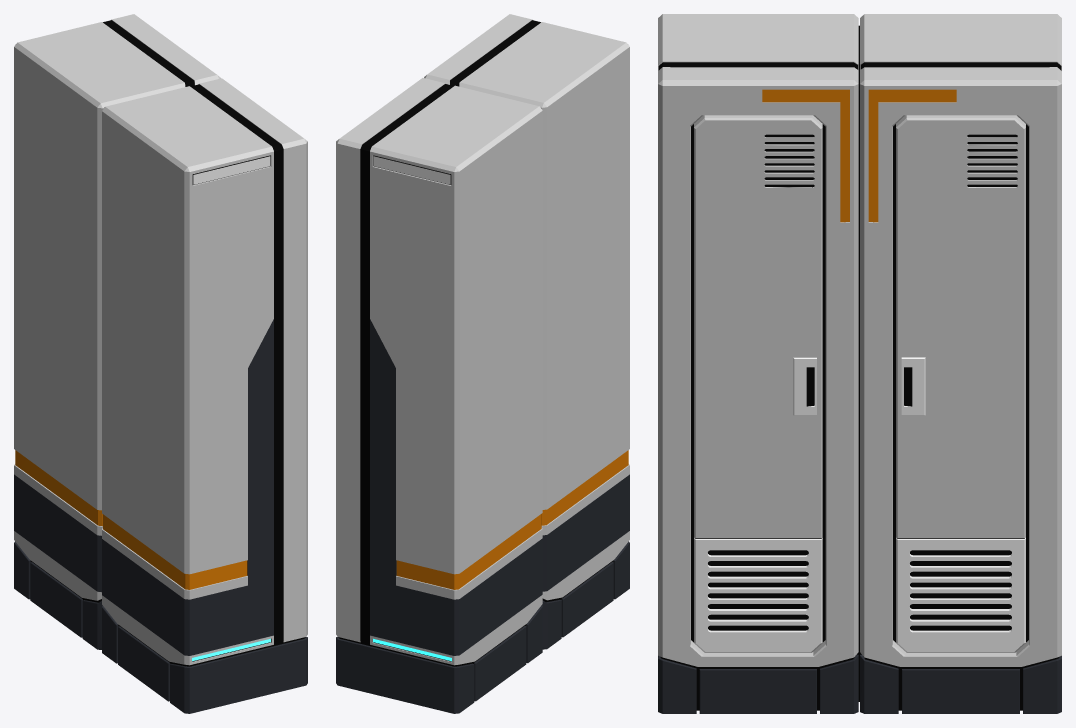
File: locker.glb
3 renders of one model, left to right at view 1: azimuth 30°, elevation 25°; view 2: azimuth 150°, elevation 25°; view 3: azimuth 270°, elevation 25°, orthographic. The views are drawn at different scales.
Visible parts, largest first — view 1: SM_Double_Locker; view 2: SM_Double_Locker; view 3: SM_Double_Locker.
Part boxes in pixels (bbox=[...]): SM_Double_Locker: bbox=[14, 14, 307, 713]; SM_Double_Locker: bbox=[336, 14, 629, 713]; SM_Double_Locker: bbox=[658, 14, 1061, 713].
Bounding box in the file's own units: 0.4558 × 1.9 × 1.1.
